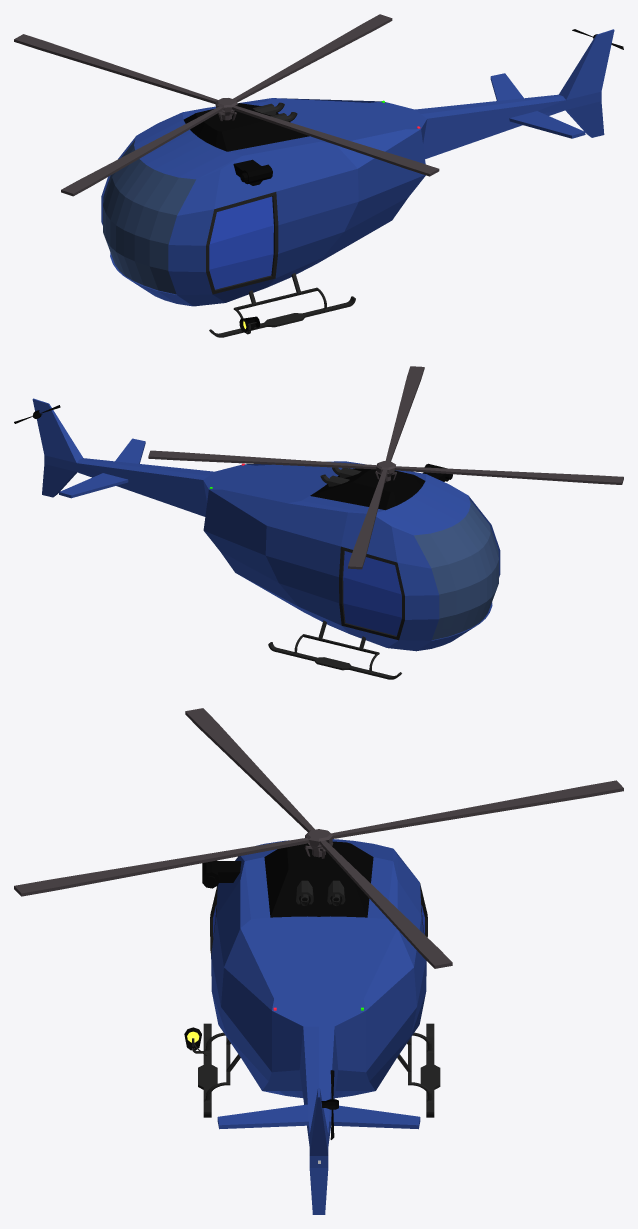
Rendered from helicoptero.glb.
The picture shows the model from 3 angles, top to bottom: view 1: azimuth 30°, elevation 25°; view 2: azimuth 150°, elevation 25°; view 3: azimuth 270°, elevation 25°; orthographic projection. The views are drawn at different scales.
Visible parts, largest first — view 1: Helicopter_Body_14; view 2: Helicopter_Body_14; view 3: Helicopter_Body_14.
Part boxes in pixels (x1,y1,x2,y2): Helicopter_Body_14: [14, 14, 623, 337]; Helicopter_Body_14: [14, 366, 623, 679]; Helicopter_Body_14: [14, 708, 623, 1214].
Bounding box in the file's own units: 3.2 × 0.9454 × 2.21.
